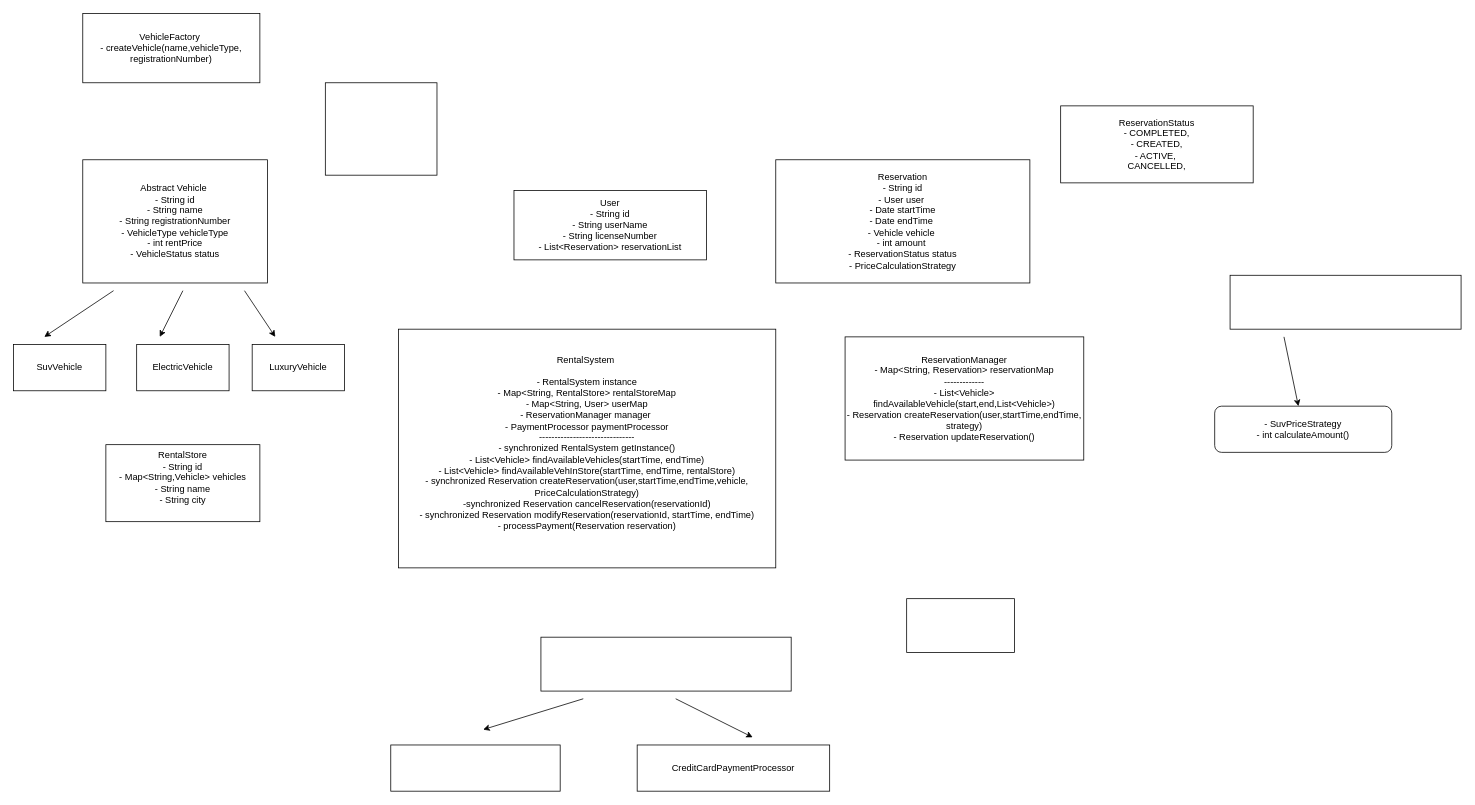
Image size: 1475x805. Some labels were removed from this diagram. The shapes that lost their labels are listed below. From the top down, each one's centre as x and y in pixels, then its label:
(381,128): VehicleStatus - AVAILABLE, - BOOKED, - MAINTAINENCE,
(1345,302): PriceCalculationStrategy - int calculateAmount(startTime,endTime,vehicle)
(960,625): Bill - int amount - boolean status
(665,663): PaymentProcessor - Bill processPayment(Reservation)
(475,767): DebitCardPaymentProcessor
